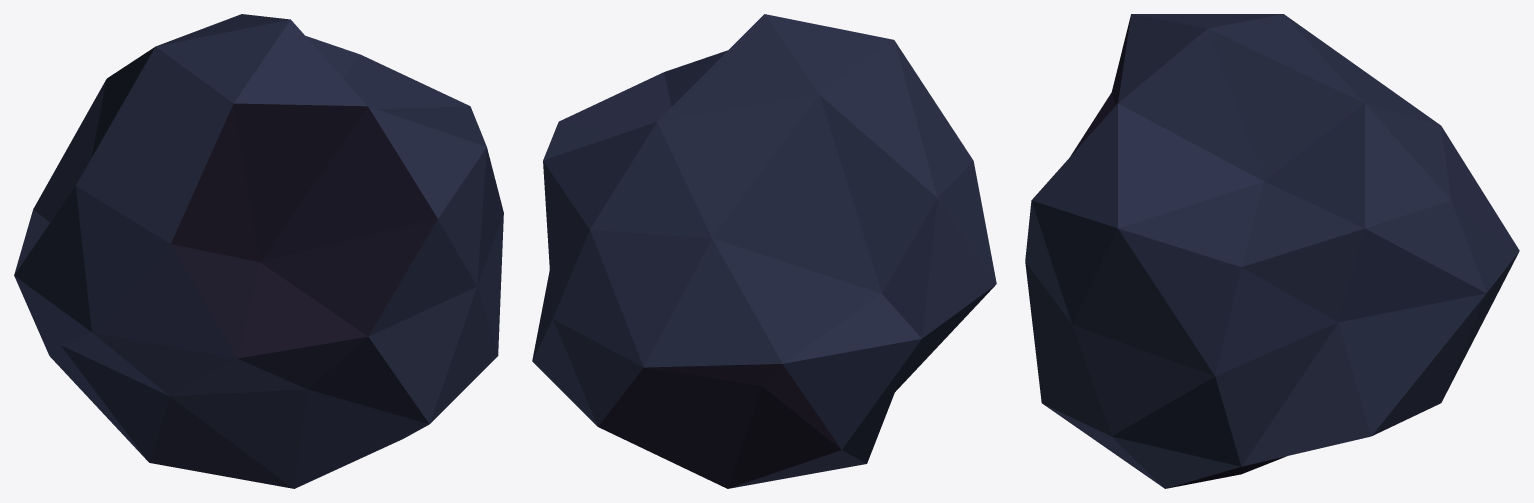
Rendered from meteorito.fbx.
3 views of the same model, side by side, from view 1: azimuth 30°, elevation 25°; view 2: azimuth 150°, elevation 25°; view 3: azimuth 270°, elevation 25° (orthographic). The views are drawn at different scales.
Visible parts, largest first — view 1: Icosphere; view 2: Icosphere; view 3: Icosphere.
Boxes of the visible parts, <box> form: Icosphere: <box>14,14,503,488</box>; Icosphere: <box>532,14,996,488</box>; Icosphere: <box>1025,14,1519,488</box>.
Size of the model in its own units: 100 by 100 by 100.
1 material, 1 textured.
